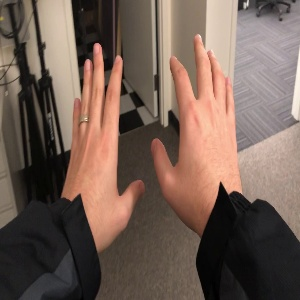hand: (150, 34, 242, 196), (65, 43, 144, 224)
